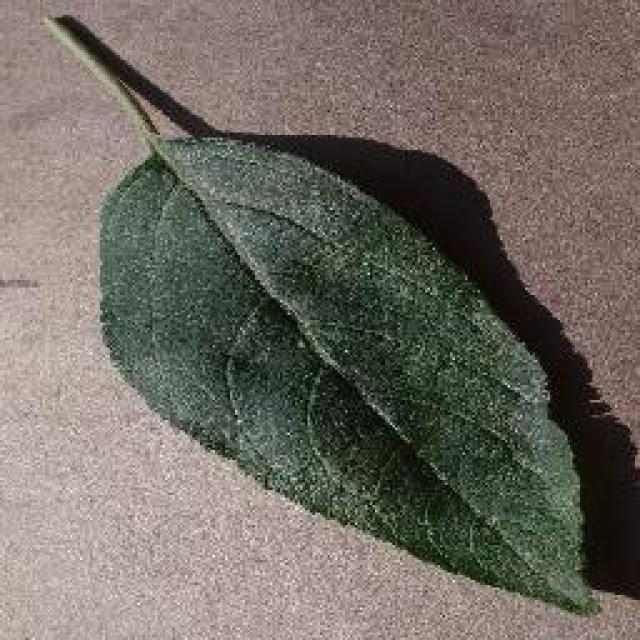apple healthy: (40, 10, 638, 618)
